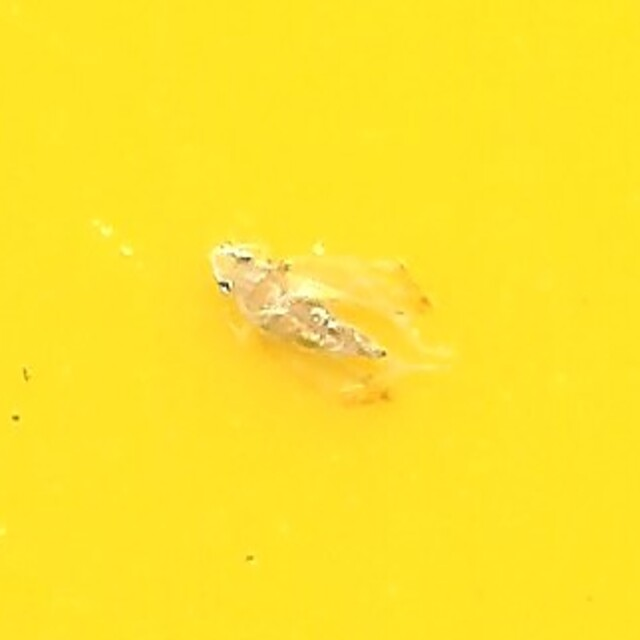Hemiptera: (199, 228, 441, 412)
